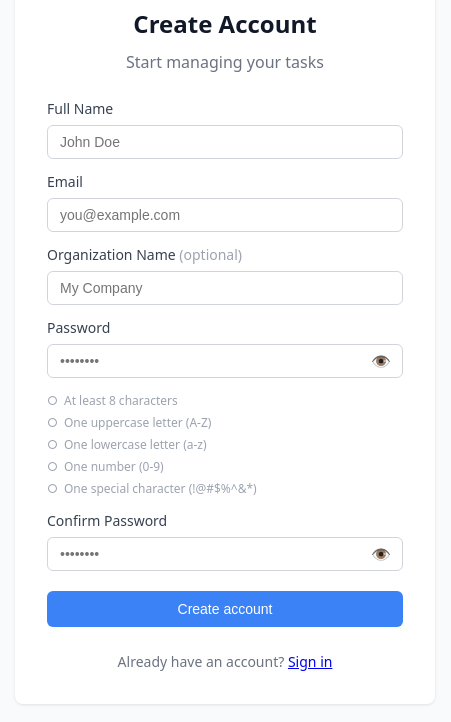
Test case: Register Page › TC-REG-UI-004: Shows checkmark when requirement met
This screenshot has width=451, height=722.
Step 1. Type "Password123!" into the password field labelled "Password" → [225, 361], box [47,344,403,378]
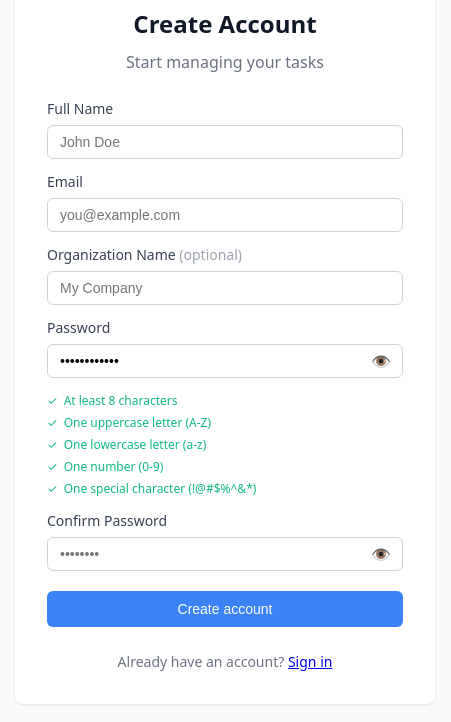
Result: the text "✓" next to "At least 8 characters" is shown at [47,392,58,409]
